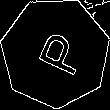P_NW: (25, 25, 85, 80)
